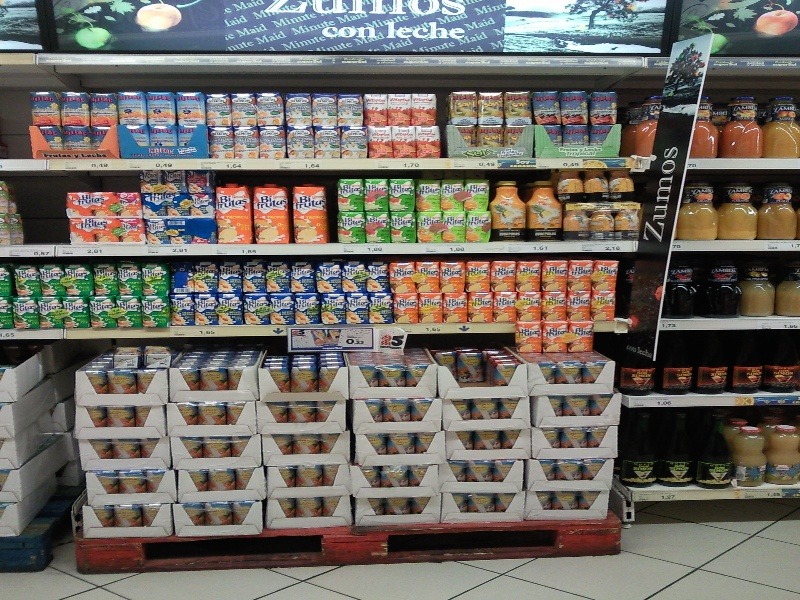juice: (288, 180, 333, 246), (212, 182, 252, 244), (250, 183, 289, 245), (333, 210, 369, 246), (333, 177, 367, 215), (142, 296, 175, 330), (439, 259, 471, 294), (89, 293, 118, 331), (463, 258, 492, 295), (142, 263, 172, 298), (467, 289, 495, 326), (513, 321, 543, 354), (464, 210, 493, 244), (490, 259, 518, 293), (416, 180, 441, 215), (569, 324, 598, 352), (419, 295, 444, 327), (415, 261, 440, 292), (591, 261, 616, 292), (543, 321, 567, 353), (591, 291, 616, 319)
